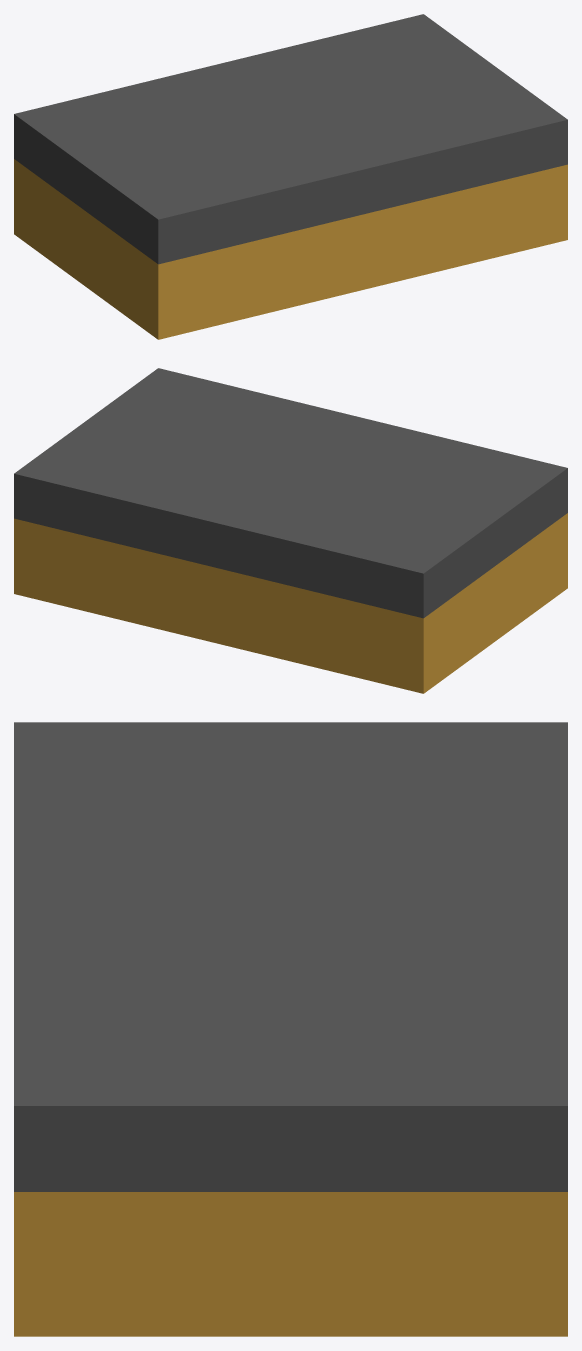
The model's file is KitchenProps_04.fbx.
The picture shows the model from 3 angles, top to bottom: view 1: azimuth 30°, elevation 25°; view 2: azimuth 150°, elevation 25°; view 3: azimuth 270°, elevation 25°; orthographic projection. The views are drawn at different scales.
Visible parts, largest first — view 1: KitchenProps_04; view 2: KitchenProps_04; view 3: KitchenProps_04.
Part boxes in pixels (left/top/right/bottom): KitchenProps_04: left=14, top=14, right=567, bottom=339; KitchenProps_04: left=14, top=368, right=567, bottom=693; KitchenProps_04: left=14, top=722, right=567, bottom=1336.
Bounding box in the file's own units: 12.1 × 3.4 × 7.39.
